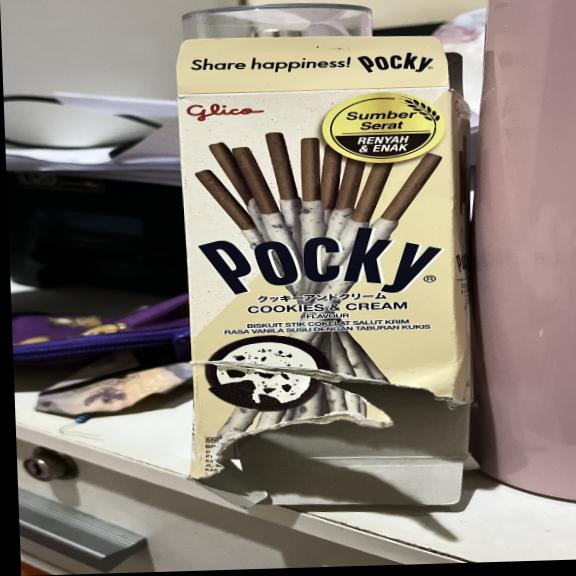Kertas: (179, 90, 470, 459)
